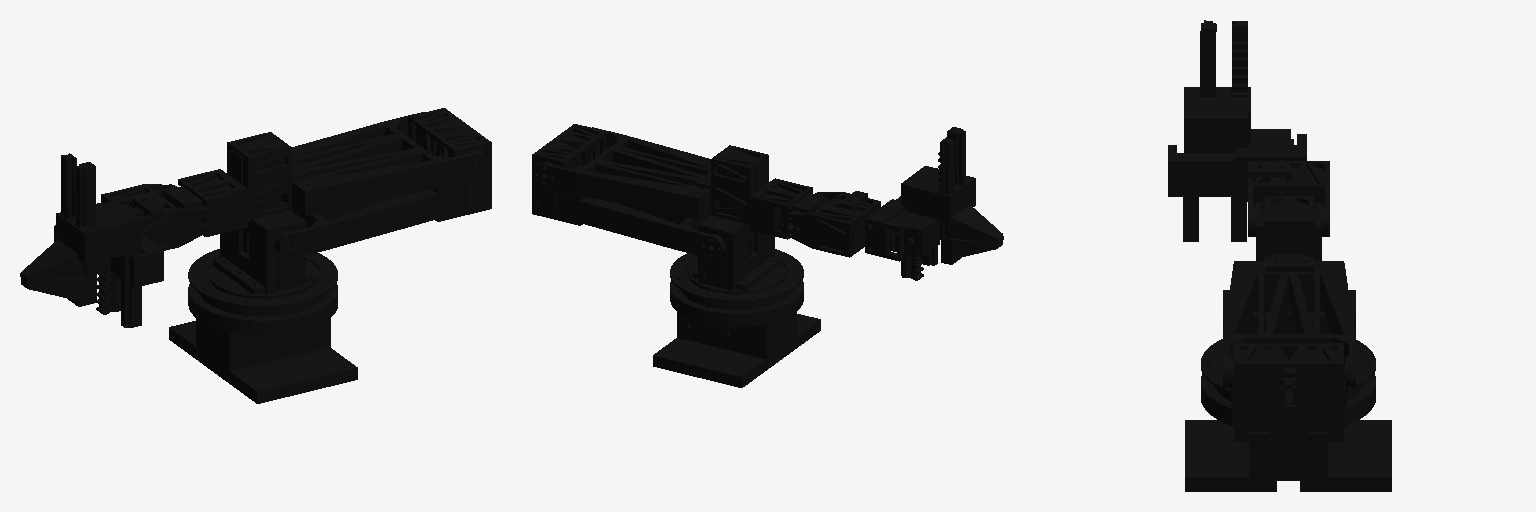
robot.urdf — MarkII_urdf:
<?xml version='1.0' encoding='utf-8'?>
<robot name="MarkII_urdf">
    <link name="link2">
        <inertial>
            <origin xyz="-0.11925733339649325 0.005931991978062552 0.03759999848888517" rpy="0.0 -6.317016764315248e-50 0.0" />
            <mass value="1.7169294249777975" />
            <inertia ixx="0.0012319302464965654" iyy="0.004506796735717036" izz="0.003856269900573861" ixy="0.00039574878190809515" iyz="-1.0782584819467626e-16" ixz="-7.68056720455316e-10" />
        </inertial>
        <visual name="link2_visual">
            <origin xyz="0.1709014741022769 -0.05559347629794061 0.019334487584718875" rpy="1.5707963267949117 4.976513451486353e-15 -1.5707963267948772" />
            <geometry>
                <mesh filename="package://simple_arm/meshes/link2.stl" scale="0.001 0.001 0.001" />
            </geometry>
            <material name="Grey">
                <color rgba="0.1 0.1 0.1 1.0"/>
            </material>
        </visual>
        <collision name="link2_collision">
            <origin xyz="0.1709014741022769 -0.05559347629794061 0.019334487584718875" rpy="1.5707963267949117 4.976513451486353e-15 -1.5707963267948772" />
            <geometry>
                <mesh filename="package://simple_arm/meshes/link2.stl" scale="0.001 0.001 0.001" />
            </geometry>
        </collision>
    </link>
    <link name="link3">
        <inertial>
            <origin xyz="0.10868868827763642 -0.003724030933186242 -0.037600078877557806" rpy="0.0 -0.0 0.0" />
            <mass value="1.306196670684937" />
            <inertia ixx="0.000776082035046255" iyy="0.0035625232342218482" izz="0.0031030780647849365" ixy="0.0002597156280431667" iyz="-1.5231697193126657e-09" ixz="4.1832078864254874e-09" />
        </inertial>
        <visual name="link3_visual">
            <origin xyz="-0.17090148120105542 -0.05559346835197603 -0.019334487584714132" rpy="-1.570796326794908 -5.701252021175879e-15 -1.5707963267949205" />
            <geometry>
                <mesh filename="package://simple_arm/meshes/link3.stl" scale="0.001 0.001 0.001" />
            </geometry>
            <material name="Grey">
                <color rgba="0.1 0.1 0.1 1.0"/>
            </material>
        </visual>
        <collision name="link3_collision">
            <origin xyz="-0.17090148120105542 -0.05559346835197603 -0.019334487584714132" rpy="-1.570796326794908 -5.701252021175879e-15 -1.5707963267949205" />
            <geometry>
                <mesh filename="package://simple_arm/meshes/link3.stl" scale="0.001 0.001 0.001" />
            </geometry>
        </collision>
    </link>
    <link name="link4">
        <inertial>
            <origin xyz="0.023743149647527544 0.0006936081856877152 2.636402916778025e-07" rpy="3.94430452610506e-31 -0.0 0.0" />
            <mass value="0.3883282327130139" />
            <inertia ixx="7.321790565820854e-05" iyy="0.00010651266654792581" izz="0.0001296274791412299" ixy="-1.6671227743084158e-06" iyz="1.5934910868325258e-09" ixz="-4.727984578603554e-11" />
        </inertial>
        <visual name="link4_visual">
            <origin xyz="0.07619999622887455 0.01500000145358571 -0.03730000423375115" rpy="-1.461837853223991e-14 -1.5707963267948732 0" />
            <geometry>
                <mesh filename="package://simple_arm/meshes/link4.stl" scale="0.001 0.001 0.001" />
            </geometry>
            <material name="Grey">
                <color rgba="0.1 0.1 0.1 1.0"/>
            </material>
        </visual>
        <collision name="link4_collision">
            <origin xyz="0.07619999622887455 0.01500000145358571 -0.03730000423375115" rpy="-1.461837853223991e-14 -1.5707963267948732 0" />
            <geometry>
                <mesh filename="package://simple_arm/meshes/link4.stl" scale="0.001 0.001 0.001" />
            </geometry>
        </collision>
    </link>
    <link name="link5">
        <inertial>
            <origin xyz="0.035783727732439256 -0.00048595372050424856 0.01695660421693338" rpy="0.0 -0.0 0.0" />
            <mass value="0.43195120069825094" />
            <inertia ixx="0.00013661969826824286" iyy="0.00019804906219602936" izz="0.00012306023877718843" ixy="6.234150465391815e-07" iyz="2.3288526893165265e-06" ixz="-3.997277092646696e-06" />
        </inertial>
        <visual name="link5_visual">
            <origin xyz="0.04935182123762868 -0.07354343383982723 0.02870000093204499" rpy="1.8325957145940237 -1.570796326794884 0" />
            <geometry>
                <mesh filename="package://simple_arm/meshes/link5.stl" scale="0.001 0.001 0.001" />
            </geometry>
            <material name="Grey">
                <color rgba="0.1 0.1 0.1 1.0"/>
            </material>
        </visual>
        <collision name="link5_collision">
            <origin xyz="0.04935182123762868 -0.07354343383982723 0.02870000093204499" rpy="1.8325957145940237 -1.570796326794884 0" />
            <geometry>
                <mesh filename="package://simple_arm/meshes/link5.stl" scale="0.001 0.001 0.001" />
            </geometry>
        </collision>
    </link>
    <link name="link1">
        <inertial>
            <origin xyz="5.821080852719263e-07 0.00027043336485681023 -0.018858064941889314" rpy="0.0 -0.0 -1.7968234226444877e-48" />
            <mass value="0.16936366026952157" />
            <inertia ixx="0.00013136936170725084" iyy="9.137448780850883e-05" izz="9.559017464709236e-05" ixy="-2.7204875754482244e-09" iyz="4.5903464360077644e-07" ixz="-1.3245743898417095e-09" />
        </inertial>
        <visual name="link1_visual">
            <origin xyz="0.032499996566958046 -0.00010000069010593915 0.0920000031906673" rpy="-3.1415926535897905 -1.9984014443252818e-14 -3.1415926535897927" />
            <geometry>
                <mesh filename="package://simple_arm/meshes/link1.stl" scale="0.001 0.001 0.001" />
            </geometry>
            <material name="Grey">
                <color rgba="0.1 0.1 0.1 1.0"/>
            </material>
        </visual>
        <collision name="link1_collision">
            <origin xyz="0.032499996566958046 -0.00010000069010593915 0.0920000031906673" rpy="-3.1415926535897905 -1.9984014443252818e-14 -3.1415926535897927" />
            <geometry>
                <mesh filename="package://simple_arm/meshes/link1.stl" scale="0.001 0.001 0.001" />
            </geometry>
        </collision>
    </link>
    <link name="Base_link">
        <inertial>
            <origin xyz="0.02982294723158753 -9.999814948333012e-05 0.0001721843068847931" rpy="0.0 0.0 0.0" />
            <mass value="2.439587076117813" />
            <inertia ixx="0.003355043196280311" iyy="0.0029517213691205805" izz="0.004111423835488102" ixy="-3.601470879895567e-11" iyz="-9.787344024752466e-11" ixz="-4.622789310162727e-05" />
        </inertial>
        <visual name="Base_link_visual">
            <origin xyz="0.0 0.0 0.0" rpy="0.0 0.0 0.0" />
            <geometry>
                <mesh filename="package://simple_arm/meshes/Base_link.stl" scale="0.001 0.001 0.001" />                
            </geometry>
            <material name="Grey">
                <color rgba="0.1 0.1 0.1 1.0"/>
            </material>
        </visual>
        <collision name="Base_link_collision">
            <origin xyz="0.0 0.0 0.0" rpy="0.0 0.0 0.0" />
            <geometry>
                <mesh filename="package://simple_arm/meshes/Base_link.stl" scale="0.001 0.001 0.001" />
            </geometry>
        </collision>
    </link>
    <link name="link7">
        <inertial>
            <origin xyz="-0.02125556016004266 0.02069729837988362 0.024781540844300568" rpy="0.0 -0.0 0.0" />
            <mass value="0.5358792988098098" />
            <inertia ixx="0.0004195955359667763" iyy="0.0002900790125976003" izz="0.0002925174548764828" ixy="-4.012954700558043e-06" iyz="-2.984309716013994e-05" ixz="1.1644209703649167e-05" />
        </inertial>
        <visual name="link7_visual">
            <origin xyz="-0.032909182545943876 0.018261677882930236 -0.0033242176923328447" rpy="-2.8559956346436826e-14 1.650470132109929e-14 1.5707963267949088" />
            <geometry>
                <mesh filename="package://simple_arm/meshes/link7.stl" scale="0.001 0.001 0.001" />
            </geometry>
            <material name="Grey">
                <color rgba="0.1 0.1 0.1 1.0"/>
            </material>
        </visual>
        <collision name="link7_collision">
            <origin xyz="-0.032909182545943876 0.018261677882930236 -0.0033242176923328447" rpy="-2.8559956346436826e-14 1.650470132109929e-14 1.5707963267949088" />
            <geometry>
                <mesh filename="package://simple_arm/meshes/link7.stl" scale="0.001 0.001 0.001" />
            </geometry>
        </collision>
    </link>
    <link name="link8">
        <inertial>
            <origin xyz="-0.01374187102965438 0.015398127677238591 -0.013128550219904974" rpy="0.0 -0.0 -1.97215226305253e-31" />
            <mass value="0.2702290737916973" />
            <inertia ixx="0.0003019324644201129" iyy="5.3575326322536824e-05" izz="0.00029302241696244416" ixy="4.625667263451386e-06" iyz="3.7956240059069425e-05" ixz="-4.0885846874418075e-06" />
        </inertial>
        <visual name="link8_visual">
            <origin xyz="-0.022190620250582997 0.004999999783778932 -0.007499995673975315" rpy="-3.032922410889425e-14 -1.650470132109924e-14 -1.5707963267949003" />
            <geometry>
                <mesh filename="package://simple_arm/meshes/link8.stl" scale="0.001 0.001 0.001" />
            </geometry>
            <material name="Grey">
                <color rgba="0.1 0.1 0.1 1.0"/>
            </material>
        </visual>
        <collision name="link8_collision">
            <origin xyz="-0.022190620250582997 0.004999999783778932 -0.007499995673975315" rpy="-3.032922410889425e-14 -1.650470132109924e-14 -1.5707963267949003" />
            <geometry>
                <mesh filename="package://simple_arm/meshes/link8.stl" scale="0.001 0.001 0.001" />
            </geometry>
        </collision>
    </link>
    <link name="link6">
        <inertial>
            <origin xyz="0.021581802167376027 0.0033004351574590454 -0.012367046885296239" rpy="0.0 -0.0 0.0" />
            <mass value="0.5704200510708917" />
            <inertia ixx="0.0003213189627687286" iyy="0.0003751116467597434" izz="0.0001555071036087634" ixy="9.566547307548386e-06" iyz="6.33363180303486e-05" ixz="-3.563645594710629e-05" />
        </inertial>
        <visual name="link6_visual">
            <origin xyz="0.07619999622887395 -0.03215969244455735 -0.024094543481404863" rpy="-1.570796326794917 -0.26179938779914474 1.5707963267949145" />
            <geometry>
                <mesh filename="package://simple_arm/meshes/link6.stl" scale="0.001 0.001 0.001" />
            </geometry>
            <material name="Grey">
                <color rgba="0.1 0.1 0.1 1.0"/>
            </material>
        </visual>
        <collision name="link6_collision">
            <origin xyz="0.07619999622887395 -0.03215969244455735 -0.024094543481404863" rpy="-1.570796326794917 -0.26179938779914474 1.5707963267949145" />
            <geometry>
                <mesh filename="package://simple_arm/meshes/link6.stl" scale="0.001 0.001 0.001" />
            </geometry>
        </collision>
    </link>
    <joint name="link2_Revolute-3" type="revolute">
        <origin xyz="-0.1583 0.028200000000000003 1.509903313490213e-16" rpy="-3.1415926535897847 -4.708104539070778e-32 3.155443620884047e-30" />
        <parent link="link2" />
        <child link="link3" />
        <axis xyz="4.930380657631324e-32 -3.2376636228602148e-15 -1.0" />
        <limit lower="-1.57" upper="2.007129" effort="1000000" velocity="1000000" />
    </joint>
    <joint name="link3_Revolute-4" type="continuous">
        <origin xyz="0.1825999999999999 -1.2434497875801754e-16 -0.037599999999999995" rpy="1.57079632679489 -4.930380657633368e-32 -6.310887241768096e-30" />
        <parent link="link3" />
        <child link="link4" />
        <axis xyz="-1 -1.972152263052423e-31 7.732354329232007e-16" />
    </joint>
    <joint name="link4_Revolute-5" type="revolute">
        <origin xyz="0.041199999999999994 -0.0171 -7.105427357601002e-17" rpy="-1.5707963267948934 6.310887241768096e-30 2.1302956603730899e-44" />
        <parent link="link4" />
        <child link="link5" />
        <axis xyz="0.0 -1.457167719820524e-16 -1" />
        <limit lower="-1.396263" upper="1.919862" effort="1000000" velocity="1000000" />
    </joint>
    <joint name="link1_Revolute-2" type="revolute">
        <origin xyz="0.0 -0.0372 -0.0412" rpy="-1.5707963267949019 -0.0 4.7168651610947446e-32" />
        <parent link="link1" />
        <child link="link2" />
        <axis xyz="-2.222761185622446e-33 5.384019548920534e-15 1.0" />
        <limit lower="-1.919862" upper="1.919862" effort="1000000" velocity="1000000" />
    </joint>
    <joint name="Base_link_Revolute-1" type="continuous">
        <origin xyz="0.032499996566955396 -9.999856483530411e-05 0.0370000031906685" rpy="-3.1415926535897905 1.9984014443252947e-14 -3.1415926535897927" />
        <parent link="Base_link" />
        <child link="link1" />
        <axis xyz="3.1554436208840472e-30 -7.50832997646248e-18 -1.0" />
    </joint>
    <joint name="gripper_finger_joint" type="prismatic">
        <origin xyz="0.0155 0.005 -0.0544" rpy="1.57 1.3 1.57" />
        <parent link="link6" />
        <child link="link7" />
        <axis xyz="0 1 0" />
        <limit lower="0.0" upper="0.040" effort="1000" velocity="1000" />
    </joint>

    <joint name="gripper_finger_joint_mimic" type="prismatic">
        <origin xyz="-0.0101 0.0300 0.0328" rpy="3.14 0 0" />
        <parent link="link7" />
        <child link="link8" />
        <axis xyz="0 1 0" />
        <limit lower="-0.05" upper="0.04" effort="1000" velocity="1000" />
        <mimic joint="gripper_finger_joint" multiplier="1" offset="-0.007"/>
    </joint>
    <joint name="link5_Revolute-9" type="continuous">
        <origin xyz="0.05960000000000001 1.7763568394002505e-17 0.029700000000000004" rpy="2.8797932657906506 -4.930380657631321e-32 -1.9721522630525295e-31" />
        <parent link="link5" />
        <child link="link6" />
        <axis xyz="-1.0 6.36205843611384e-31 -4.8574007898871174e-15" />
    </joint>
</robot>

--- Render facts (derived) ---
3 views of the same robot in one strip: view 1: azimuth 30°, elevation 25°; view 2: azimuth 150°, elevation 25°; view 3: azimuth 270°, elevation 25° (orthographic).
Model MarkII_urdf with 9 links and 8 joints (3 revolute, 3 continuous, 2 prismatic), rooted at Base_link, posed all joints at 0.
Visible links, largest first — view 1: Base_link, link3, link2, link7, link1, link5, link8, link4, link6; view 2: Base_link, link3, link2, link1, link7, link5, link6, link8, link4; view 3: Base_link, link3, link2, link6, link7, link5, link8, link4.
Boxes of the visible links, x1,y1,x2,y2 form: Base_link: (169,249,357,403); link3: (227,112,489,220); link2: (277,108,491,258); link7: (20,201,141,327); link1: (209,211,317,298); link5: (101,184,214,250); link8: (21,153,96,306); link4: (164,169,247,236); link6: (54,225,163,287); Base_link: (653,249,820,387); link3: (534,127,768,224); link2: (532,124,723,258); link1: (688,215,785,293); link7: (901,166,1003,280); link5: (780,191,880,257); link6: (865,196,940,261); link8: (938,127,1002,264); link4: (750,178,826,239); Base_link: (1185,339,1391,491); link3: (1223,196,1355,387); link2: (1223,290,1355,441); link6: (1168,129,1306,201); link7: (1183,87,1250,241); link5: (1248,161,1329,236); link8: (1200,20,1247,96); link4: (1256,203,1321,260).
Bounding box of the posed robot: 0.3999 × 0.1407 × 0.2191 m (x, y, z).
9 mesh visuals loaded from 9 distinct referenced files (9 binary STL).